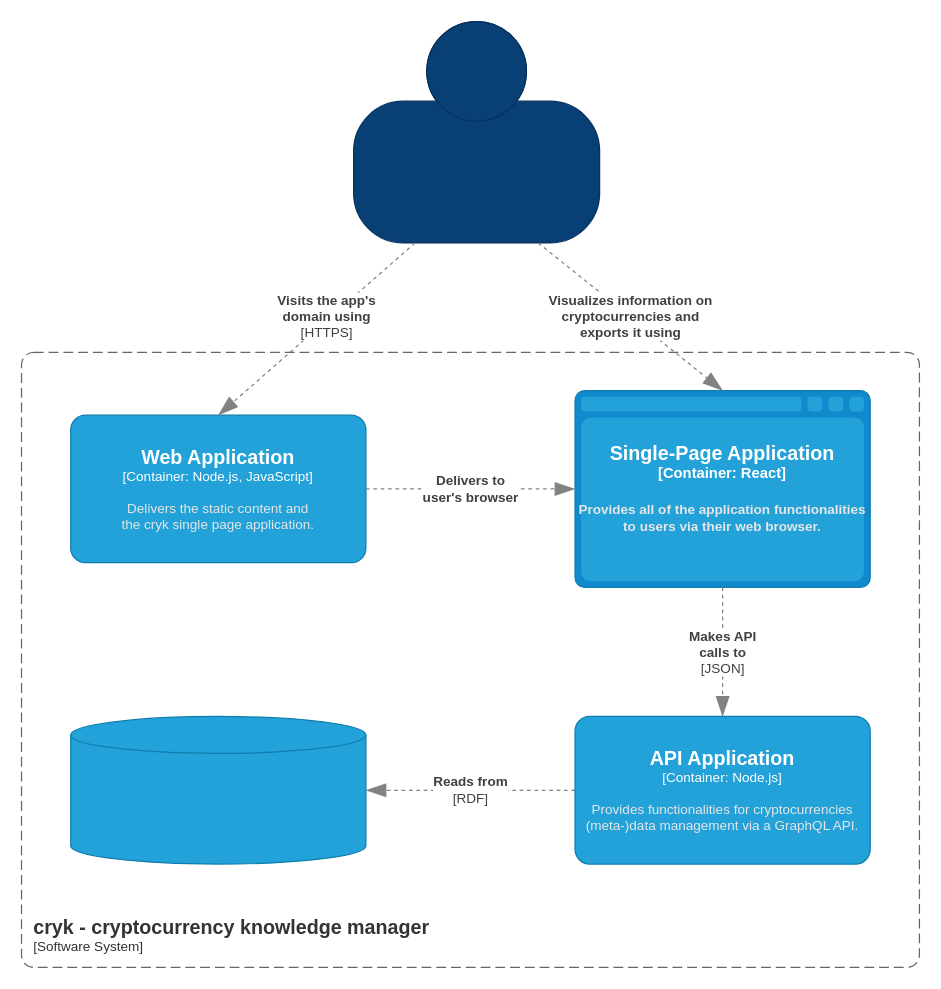
Some shapes in this 941 by 989 pixel diagram are drawn without their labels. Each missing label, with the centre of its shape:
Database [Container: Amazon Neptune] Stores (meta-)data on cryptocurrencies.: point (217, 789)
User [Person] A user of the application that peruses the information displayed.: point (476, 131)
